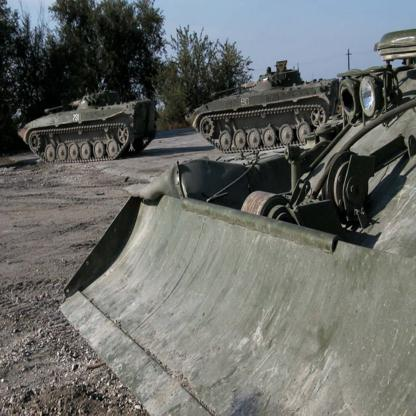Tank: (183, 68, 347, 153), (14, 84, 156, 163)
